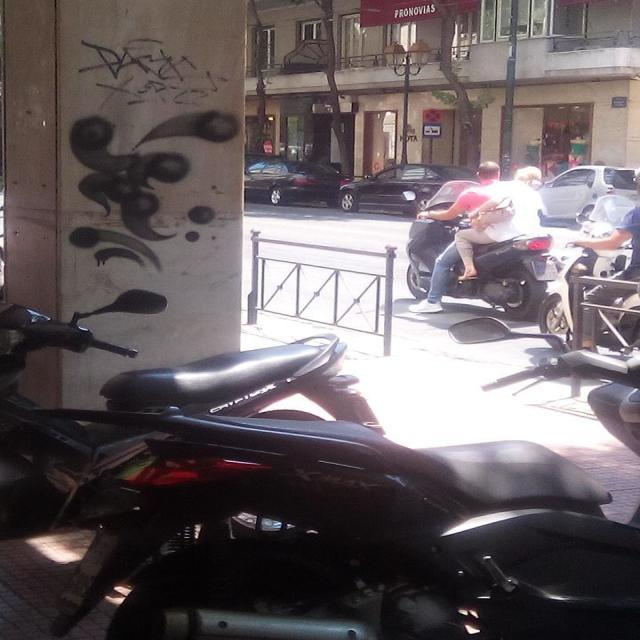nonspitting: (68, 110, 244, 270), (75, 36, 226, 106)
